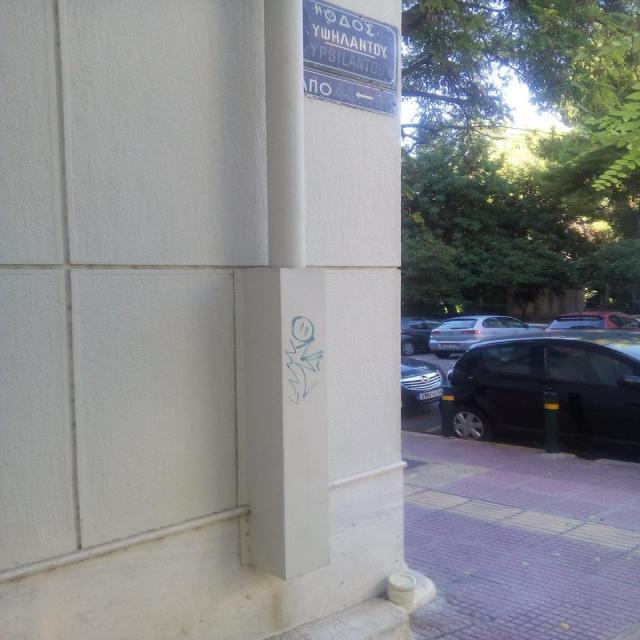nonspitting: (281, 314, 322, 398)
